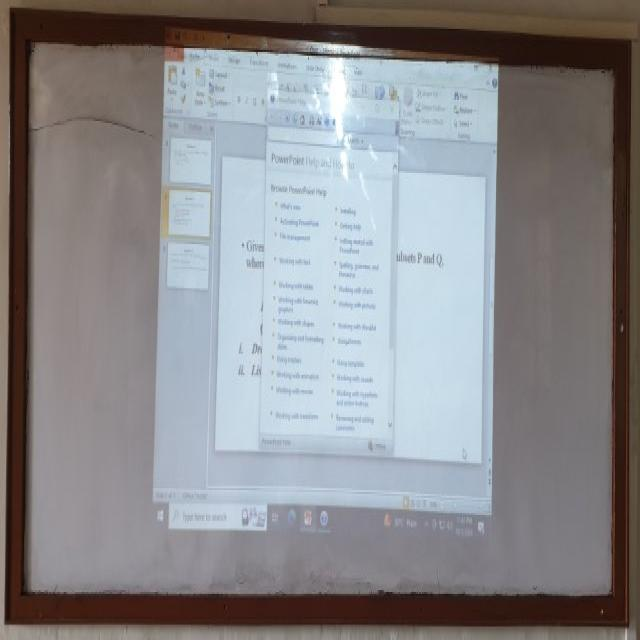Slide: (152, 33, 500, 546)
White-board: (15, 22, 625, 615)
